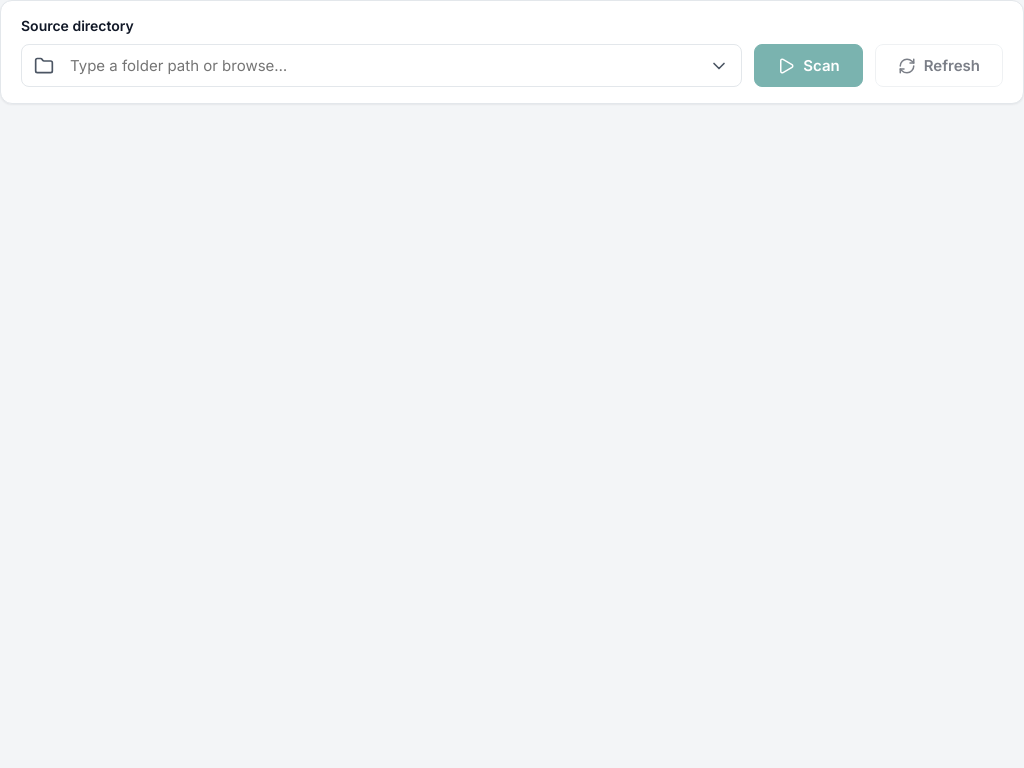
Test: SourceBar recent folders › closes the menu on an outside click
Click the button named "Recent folders": (719, 66) [697, 48, 741, 84]
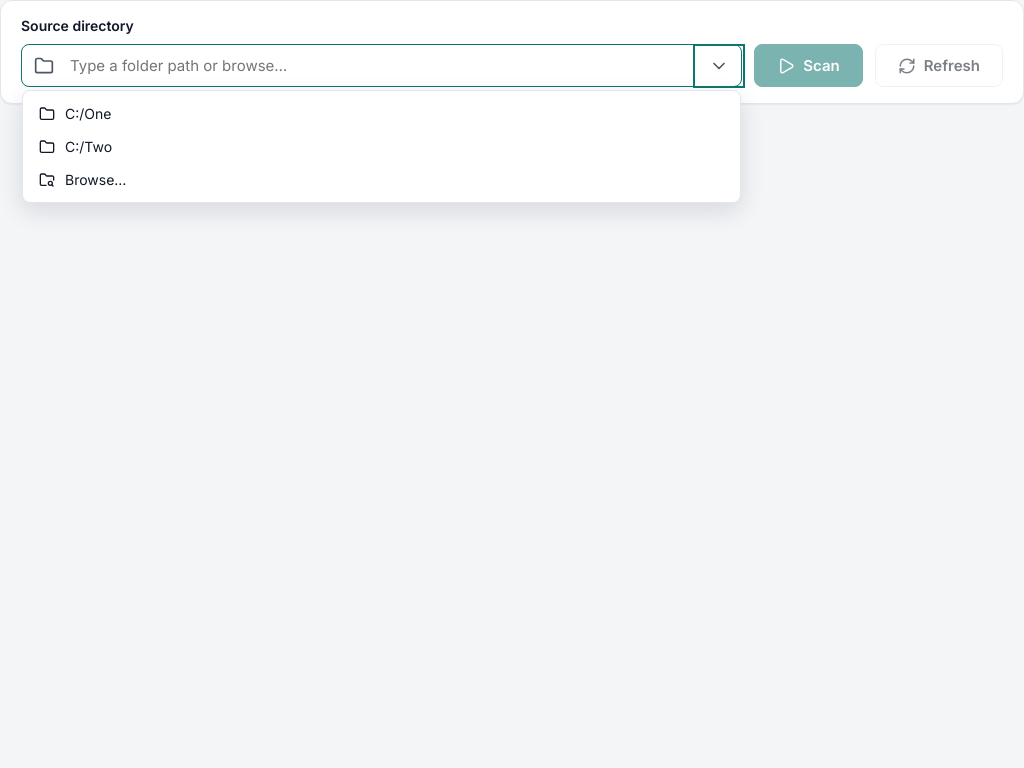
Click the element showing "Source directory C:/One C:/Two Browse… Scan Refresh": (512, 384) [0, 0, 1023, 767]
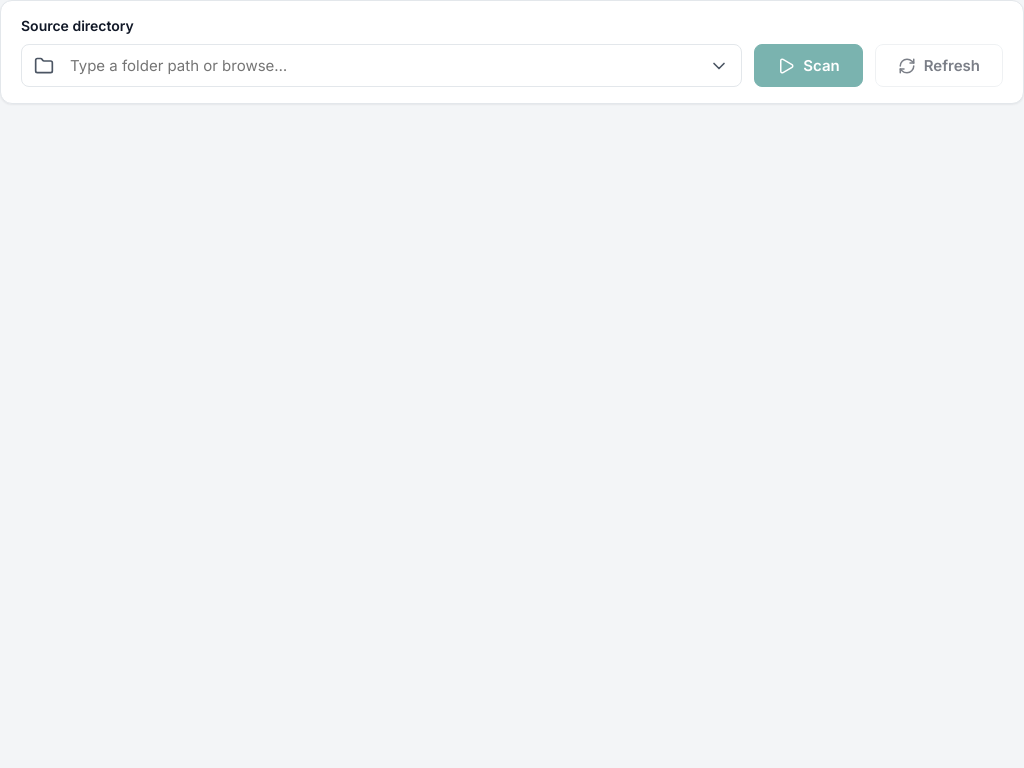
Expected: the button "C:/One" is gone
